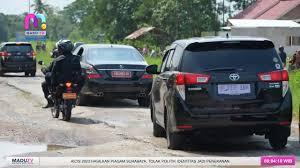Pothole: (8, 78, 110, 128), (0, 132, 82, 168)
